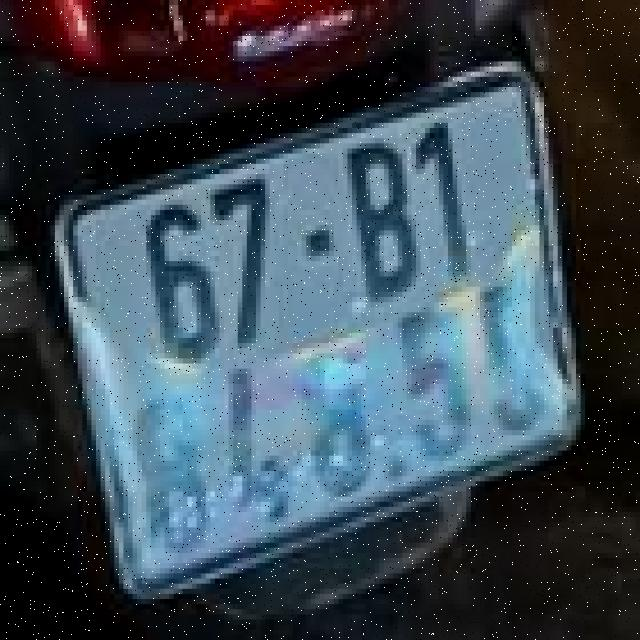1: (405, 114, 485, 295)
4: (204, 353, 298, 539)
5: (380, 299, 481, 472), (467, 268, 555, 444)
6: (128, 196, 227, 380)
7: (205, 172, 298, 357)
8: (283, 332, 382, 506), (124, 383, 218, 563)
B: (335, 131, 432, 322)
